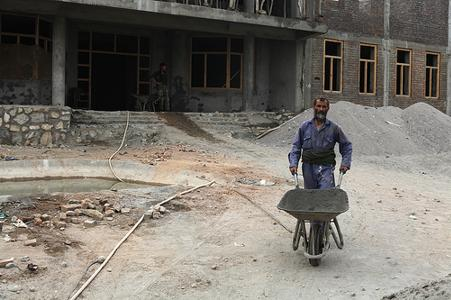person: (288, 96, 353, 193)
